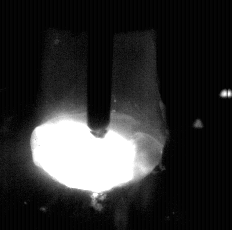arame: (87, 0, 112, 138)
poca: (30, 0, 165, 230)
